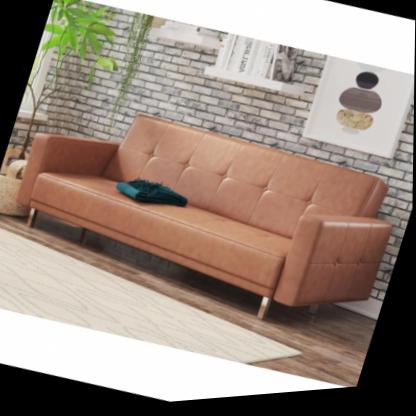Sofa: (0, 69, 410, 370)
